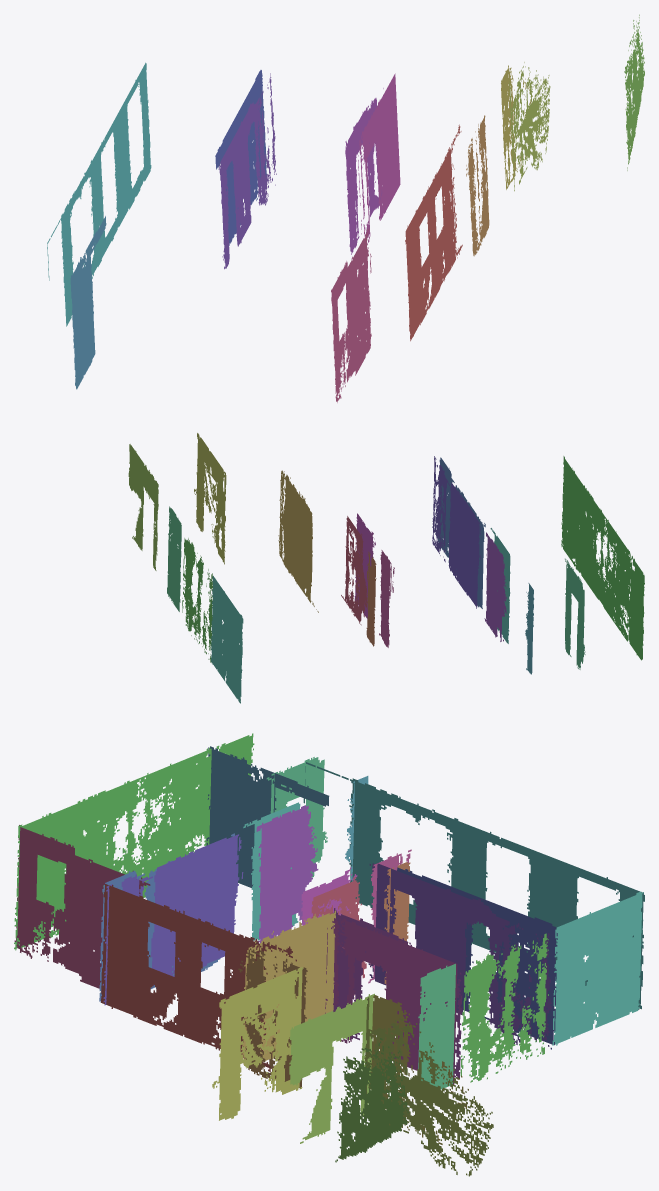
The model's file is jamsil-wall.glb.
The picture shows the model from 3 angles, top to bottom: view 1: azimuth 30°, elevation 25°; view 2: azimuth 150°, elevation 25°; view 3: azimuth 270°, elevation 25°; orthographic projection. The views are drawn at different scales.
Visible parts, largest first — view 1: jamsil-wall; view 2: jamsil-wall; view 3: jamsil-wall.
Part boxes in pixels (x1,y1,x2,y2): jamsil-wall: (47, 14, 644, 402); jamsil-wall: (128, 433, 644, 703); jamsil-wall: (14, 733, 644, 1176).
Bounding box in the file's own units: 5.59 × 1.19 × 4.05.
